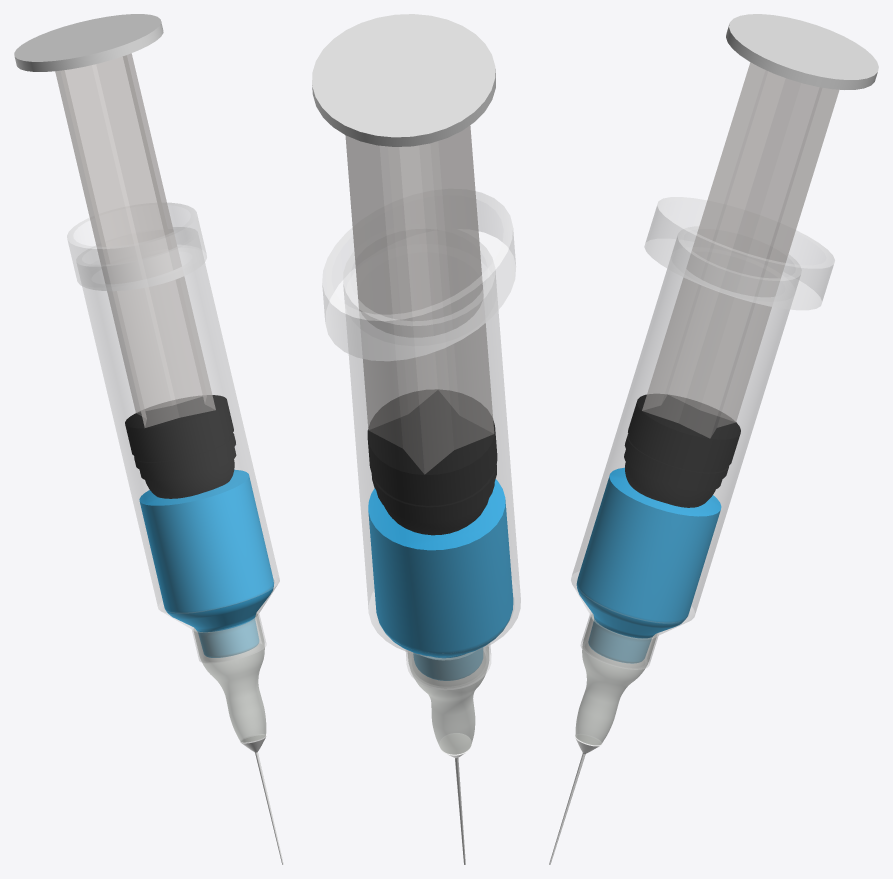
Rendered from Spuit.glb.
The picture shows the model from 3 angles, left to right: view 1: azimuth 30°, elevation 25°; view 2: azimuth 150°, elevation 25°; view 3: azimuth 270°, elevation 25°; orthographic projection. The views are drawn at different scales.
Parts seen in each view (by area): view 1: Cylinder.004, Cube.004, Cylinder.017, Cylinder.009, Cylinder.005, Cylinder.008, Cylinder.006, Cylinder.007; view 2: Cylinder.004, Cube.004, Cylinder.008, Cylinder.017, Cylinder.009, Cylinder.005, Cylinder.006, Cylinder.007; view 3: Cylinder.004, Cube.004, Cylinder.017, Cylinder.005, Cylinder.009, Cylinder.008, Cylinder.006, Cylinder.007.
Boxes of the visible parts, left/top/right/bottom form: Cylinder.004: left=76, top=227, right=279, bottom=662; Cube.004: left=55, top=53, right=215, bottom=427; Cylinder.017: left=139, top=469, right=273, bottom=657; Cylinder.009: left=125, top=395, right=236, bottom=498; Cylinder.005: left=67, top=203, right=206, bottom=290; Cylinder.008: left=14, top=14, right=163, bottom=71; Cylinder.006: left=193, top=613, right=266, bottom=742; Cylinder.007: left=240, top=735, right=283, bottom=864; Cylinder.004: left=343, top=241, right=520, bottom=689; Cube.004: left=345, top=125, right=494, bottom=474; Cylinder.008: left=312, top=14, right=495, bottom=146; Cylinder.017: left=368, top=479, right=513, bottom=680; Cylinder.009: left=367, top=390, right=497, bottom=535; Cylinder.005: left=322, top=191, right=515, bottom=360; Cylinder.006: left=407, top=645, right=489, bottom=754; Cylinder.007: left=439, top=734, right=471, bottom=864; Cylinder.004: left=571, top=226, right=801, bottom=669; Cube.004: left=642, top=62, right=839, bottom=438; Cylinder.017: left=576, top=467, right=721, bottom=663; Cylinder.005: left=644, top=197, right=834, bottom=309; Cylinder.009: left=624, top=394, right=740, bottom=507; Cylinder.008: left=726, top=14, right=878, bottom=89; Cylinder.006: left=575, top=613, right=657, bottom=745; Cylinder.007: left=549, top=735, right=601, bottom=864.
Size of the model in its own units: 0.7823 by 3.45 by 1.29.
